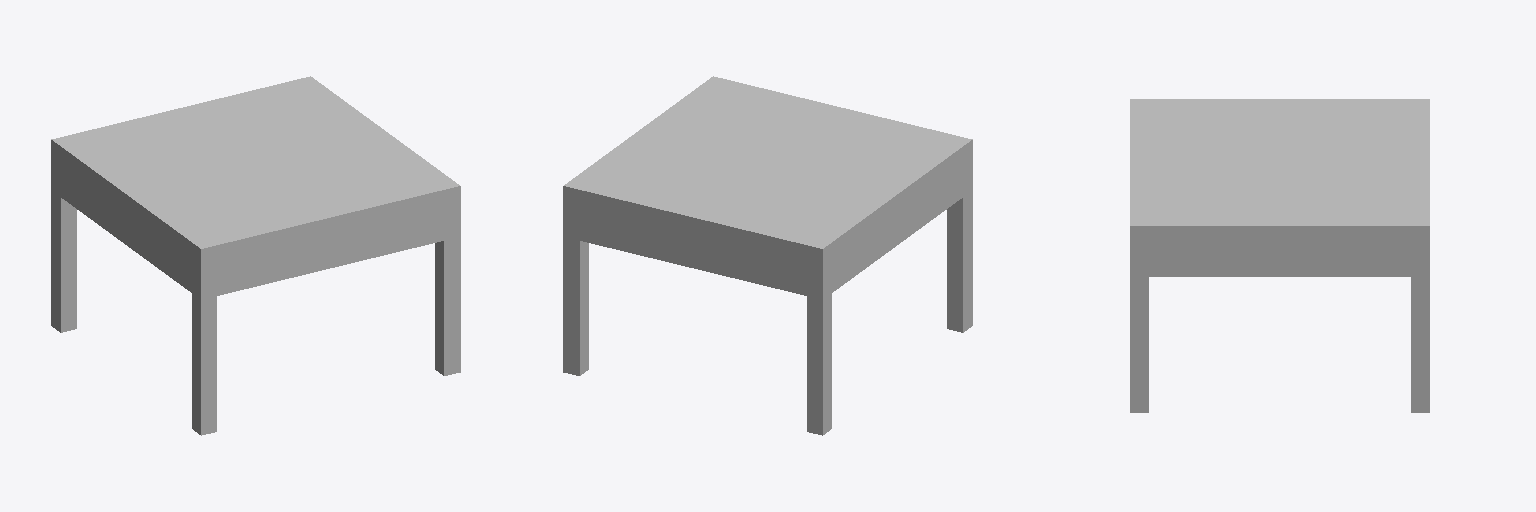
File: table.obj
The picture shows the model from 3 angles: view 1: azimuth 30°, elevation 25°; view 2: azimuth 150°, elevation 25°; view 3: azimuth 270°, elevation 25°; orthographic projection.
Parts seen in each view (by area): view 1: cube; view 2: cube; view 3: cube.
Boxes of the visible parts, <box> form: cube: <box>51,76,460,435</box>; cube: <box>563,76,972,435</box>; cube: <box>1130,99,1429,412</box>.
Size of the model in its own units: 1 by 0.6875 by 1.